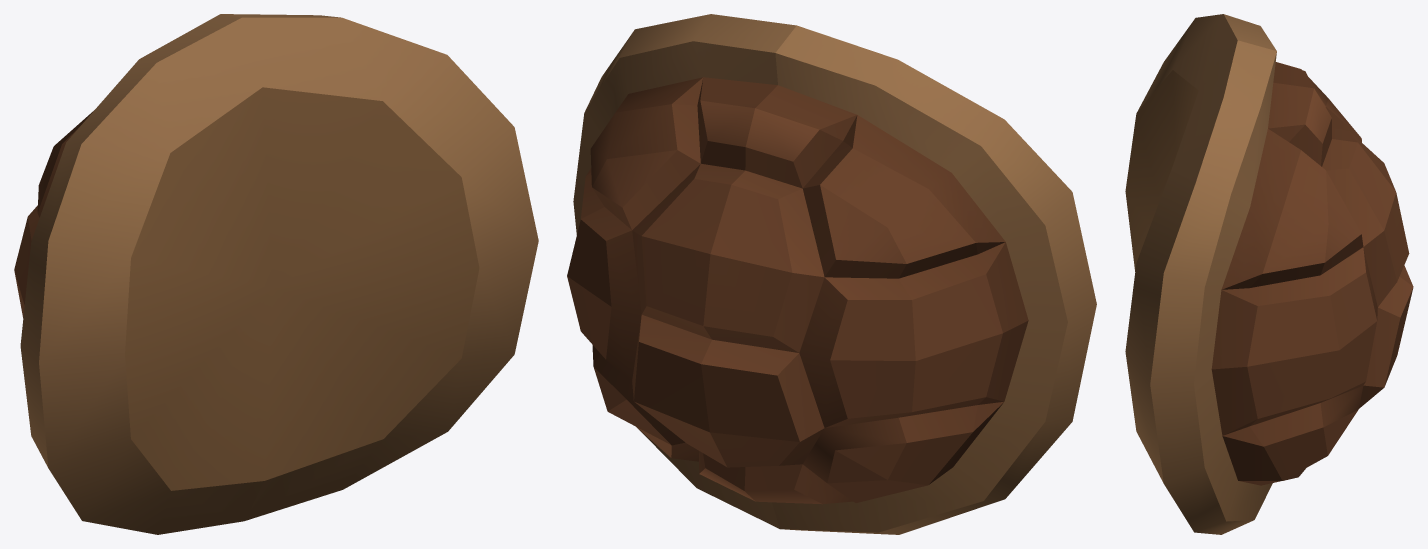
The model's file is Back_8.fbx.
3 renders of one model, left to right at view 1: azimuth 30°, elevation 25°; view 2: azimuth 150°, elevation 25°; view 3: azimuth 270°, elevation 25°, orthographic. The views are drawn at different scales.
Visible parts, largest first — view 1: Back_8; view 2: Back_8; view 3: Back_8.
Boxes of the visible parts, box(x1,y1,x2,y2) form: Back_8: box(14, 14, 538, 534); Back_8: box(567, 14, 1096, 534); Back_8: box(1125, 14, 1413, 534).
Bounding box in the file's own units: 62.68 × 60.12 × 33.73.
